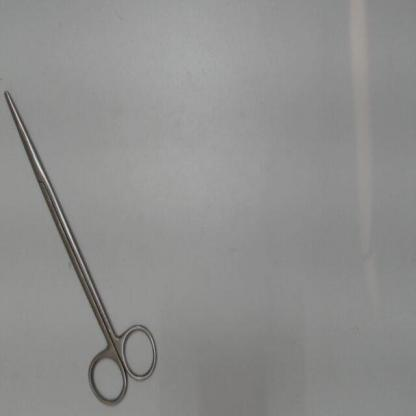9 Metzenbaum Scissors: (1, 83, 163, 413)
